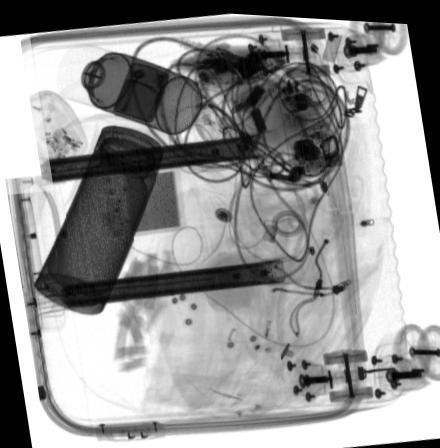Lighter: (111, 60, 169, 121)
Powerbank: (94, 164, 185, 238)
Sprayer: (56, 40, 203, 132)
